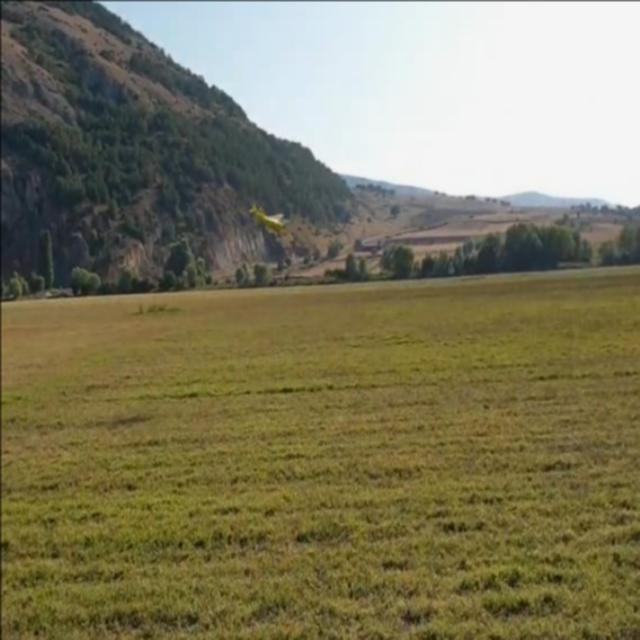plane: (245, 200, 288, 238)
